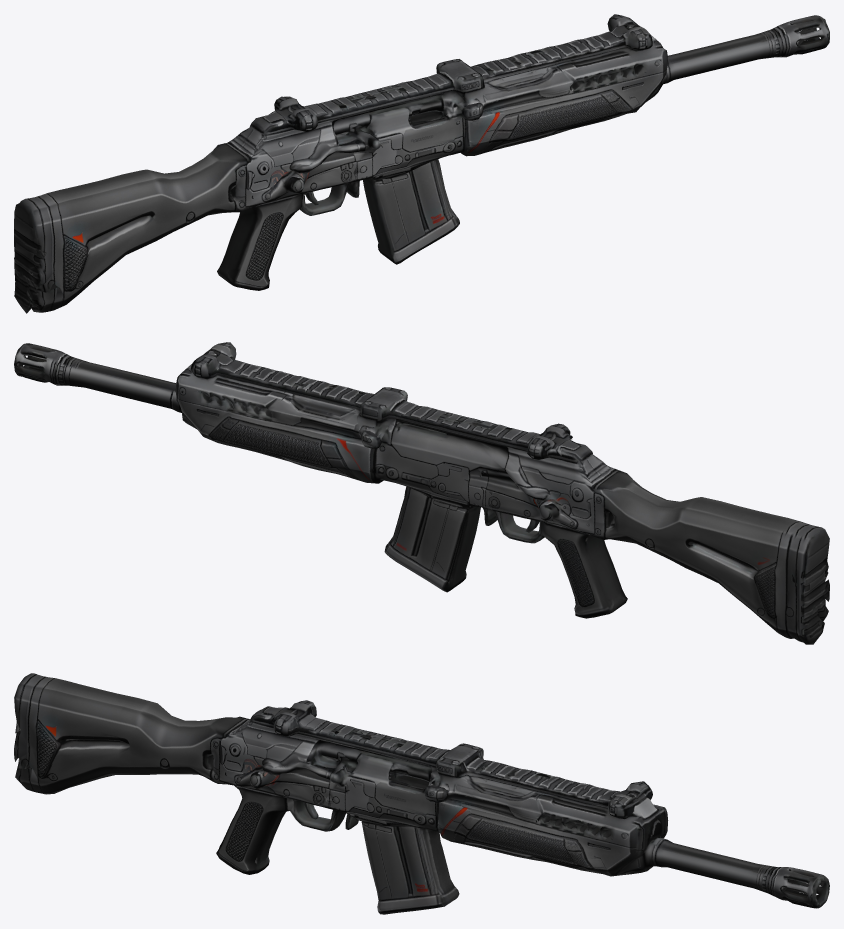
The model's file is tripo_convert_95026c6e-d456-4268-b8f9-016184edb509.fbx.
3 views of the same model, one above another, from view 1: azimuth 30°, elevation 25°; view 2: azimuth 150°, elevation 25°; view 3: azimuth 330°, elevation 25° (orthographic).
Parts seen in each view (by area): view 1: tripo_node_95026c6e; view 2: tripo_node_95026c6e; view 3: tripo_node_95026c6e.
Boxes of the visible parts, <box> form: tripo_node_95026c6e: <box>14,14,829,313</box>; tripo_node_95026c6e: <box>14,342,829,644</box>; tripo_node_95026c6e: <box>14,673,829,914</box>.
Size of the model in its own units: 98.43 by 9.74 by 20.87.
Materials: 1 (1 with a texture image).
